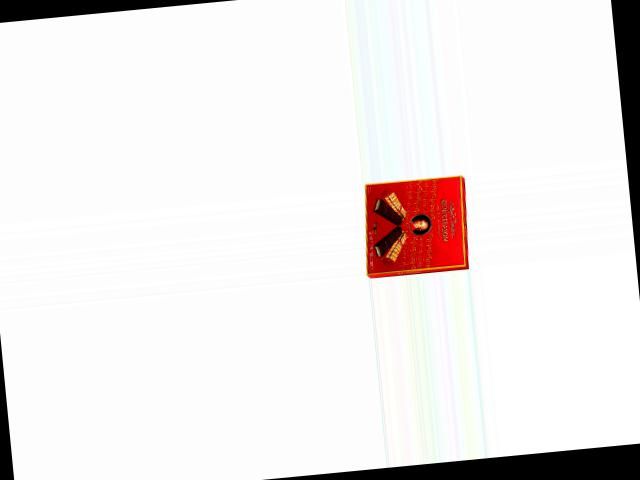chocolate: (355, 172, 471, 280)
